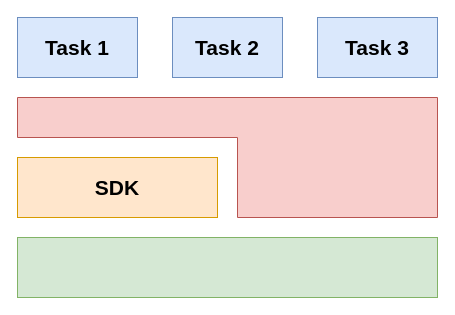
Some shapes in this 455 by 315 pixel diagram are drawn without their labels. Here are the shapes that lost their labels. From the top down, the centre of each, then its label:
At point 227,157: "RTOS".
At point 227,267: "Hardware".
